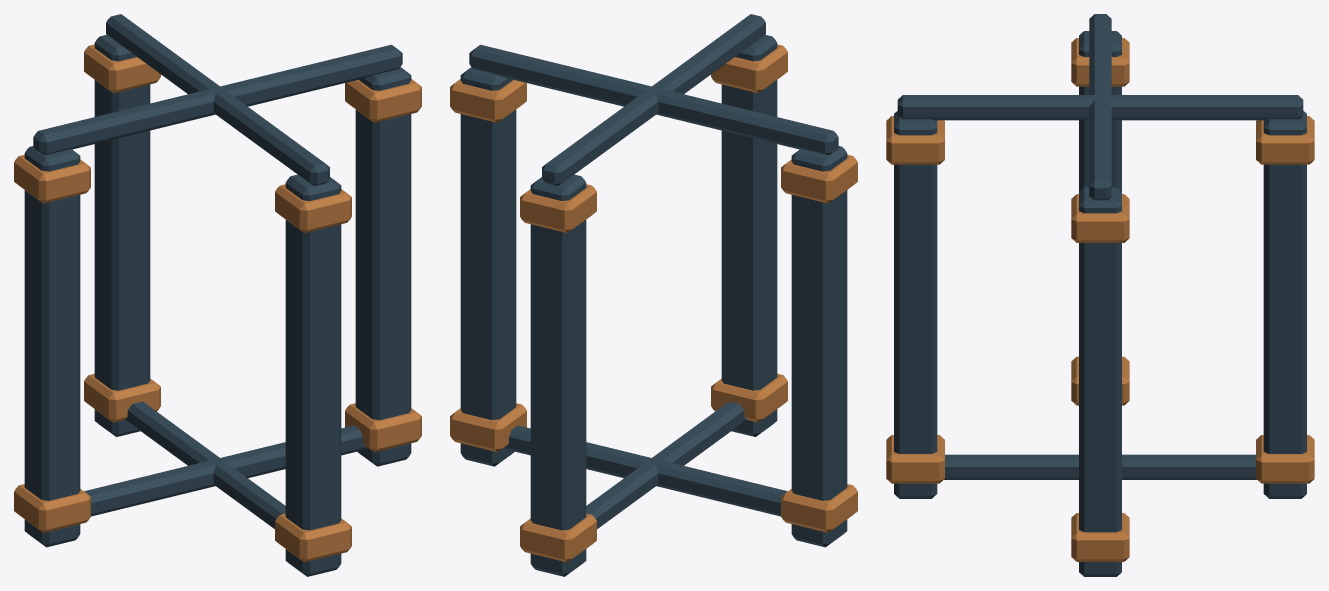
The model's file is reactor.glb.
The picture shows the model from 3 angles, left to right: view 1: azimuth 30°, elevation 25°; view 2: azimuth 150°, elevation 25°; view 3: azimuth 270°, elevation 25°; orthographic projection. The views are drawn at different scales.
Visible parts, largest first — view 1: Containment column.003, Containment column.002, Containment column, Containment column.001, Containment crossbrace.004, Containment crossbrace.005, Containment crossbrace.006, Containment crossbrace.001, Containment crossbrace.002, Containment crossbrace, Copper collar.004, Copper collar.006 (+7 smaller); view 2: Containment column.001, Containment column.002, Containment column, Containment column.003, Containment crossbrace.004, Containment crossbrace.005, Containment crossbrace, Containment crossbrace.001, Containment crossbrace.006, Copper collar.002, Copper collar.004, Copper collar.003 (+8 smaller); view 3: Containment column.001, Containment column.003, Containment column, Containment crossbrace.005, Containment crossbrace.001, Containment crossbrace.004, Containment crossbrace.006, Containment column.002, Copper collar.002, Copper collar.006, Copper collar, Copper collar.001 (+5 smaller).
Boxes of the visible parts, box(x1,y1,x2,y2) form: Containment column.003: box(285, 174, 341, 576); Containment column.002: box(24, 146, 80, 547); Containment column: box(355, 67, 411, 466); Containment column.001: box(94, 34, 150, 436); Containment crossbrace.004: box(33, 44, 402, 154); Containment crossbrace.005: box(106, 14, 329, 185); Containment crossbrace.006: box(33, 48, 396, 154); Containment crossbrace.001: box(125, 401, 285, 528); Containment crossbrace.002: box(84, 432, 362, 516); Containment crossbrace: box(128, 425, 367, 499); Copper collar.004: box(14, 484, 90, 532); Copper collar.006: box(275, 513, 351, 562); Containment column.001: box(530, 174, 586, 576); Containment column.002: box(791, 146, 847, 547); Containment column: box(460, 67, 516, 466); Containment column.003: box(721, 34, 777, 436); Containment crossbrace.004: box(475, 44, 838, 154); Containment crossbrace.005: box(542, 14, 765, 185); Containment crossbrace: box(505, 425, 787, 516); Containment crossbrace.001: box(586, 401, 746, 528); Containment crossbrace.006: box(469, 49, 837, 152); Copper collar.002: box(520, 513, 596, 562); Copper collar.004: box(781, 484, 857, 532); Copper collar.003: box(520, 184, 596, 232); Containment column.001: box(1263, 111, 1306, 498); Containment column.003: box(894, 111, 937, 498); Containment column: box(1079, 187, 1121, 576); Containment crossbrace.005: box(897, 95, 1303, 120); Containment crossbrace.001: box(944, 454, 1256, 479); Containment crossbrace.004: box(1089, 14, 1111, 200); Containment crossbrace.006: box(1089, 14, 1111, 200); Containment column.002: box(1079, 31, 1121, 191); Copper collar.002: box(1256, 435, 1314, 483); Copper collar.006: box(886, 435, 944, 483); Copper collar: box(1071, 513, 1129, 561); Copper collar.001: box(1071, 194, 1129, 242).
Bounding box in the file's own units: 4.75 × 4.83 × 4.75.
